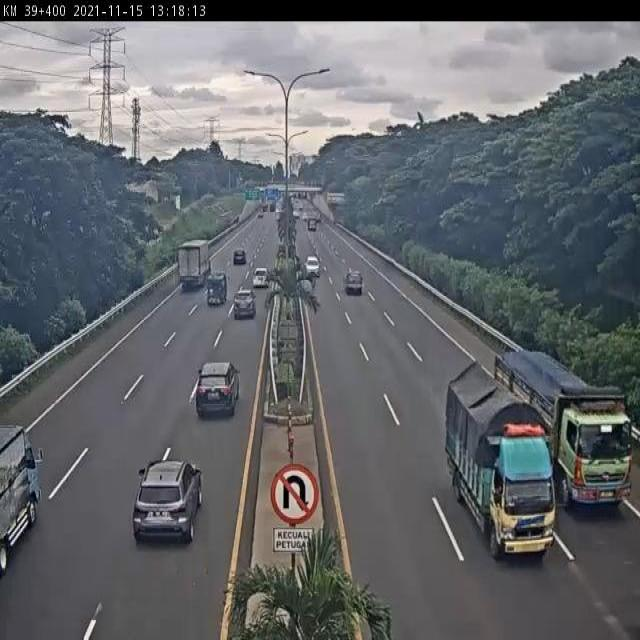Car: (133, 458, 202, 547), (195, 363, 242, 416), (234, 290, 258, 320), (253, 267, 271, 289), (305, 256, 320, 278), (232, 249, 248, 266)
Truck: (490, 348, 638, 521), (444, 358, 552, 566), (0, 422, 49, 576), (177, 234, 214, 291), (205, 272, 228, 309), (344, 269, 363, 296)
